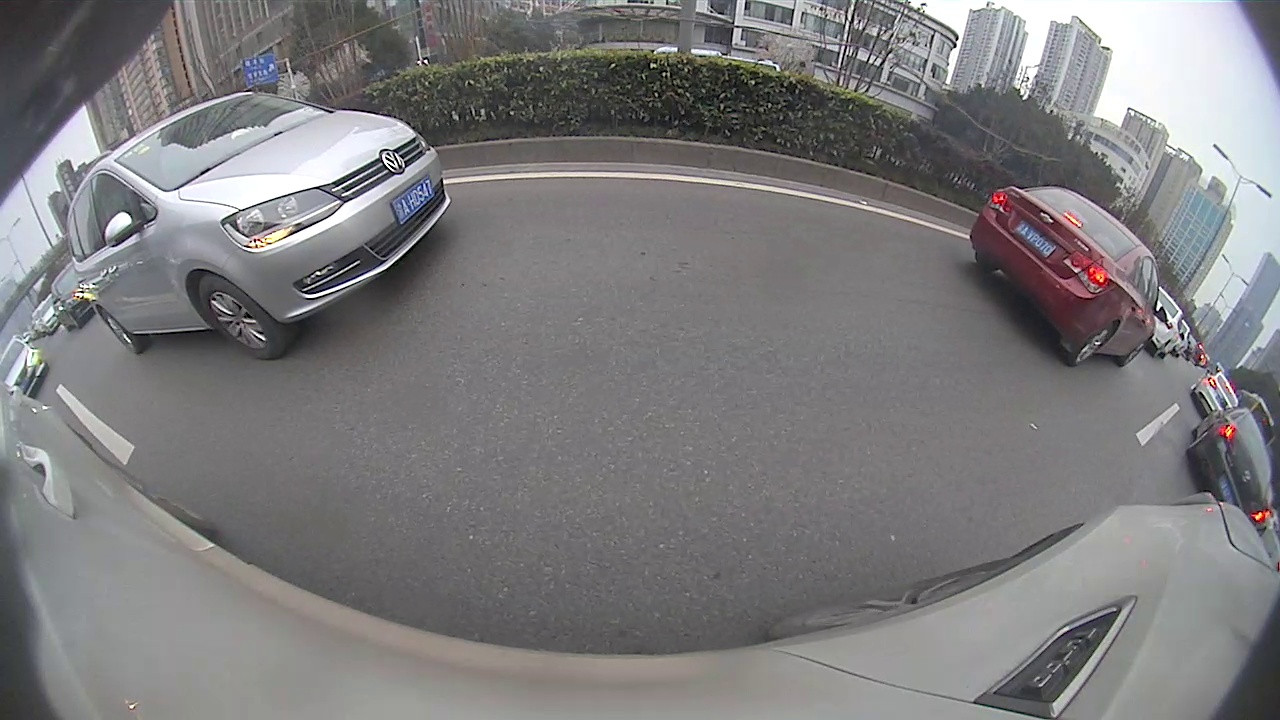car: (63, 89, 454, 363), (969, 186, 1169, 369), (1186, 397, 1274, 532), (50, 263, 98, 333), (1, 331, 48, 401), (1193, 368, 1245, 422)
front: (198, 273, 280, 361)
rear: (99, 308, 141, 355), (1069, 323, 1113, 366)
